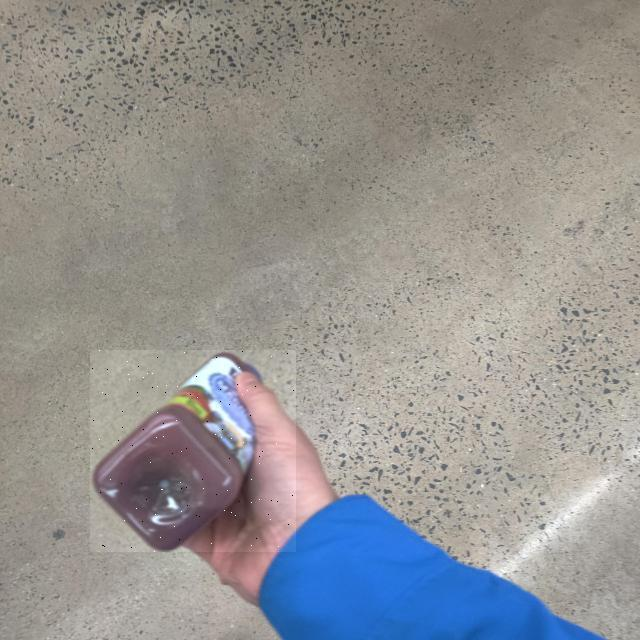Juice: (91, 350, 297, 552)
